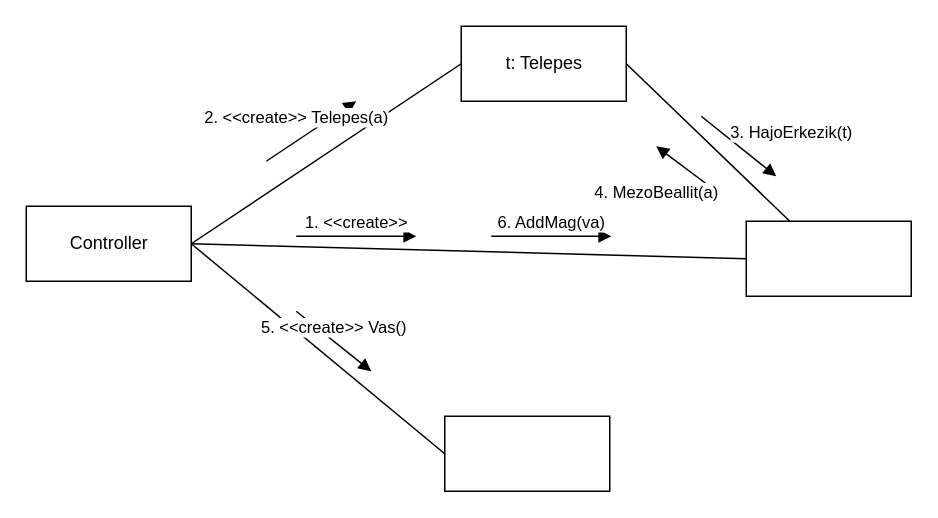
Image size: 938x518. Some labels were removed from this diagram. Each missing label, with the centre of its shape:
a: Aszteroida: pixel 828 258
va: Vas: pixel 526 453
